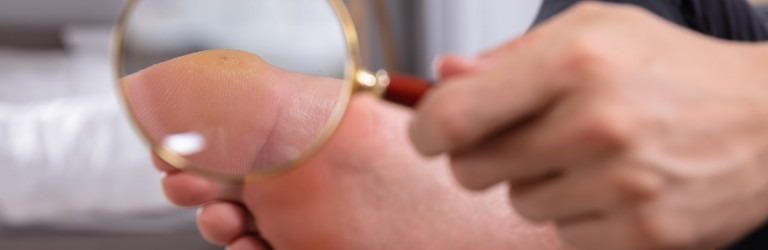Warts: (176, 47, 271, 96)
